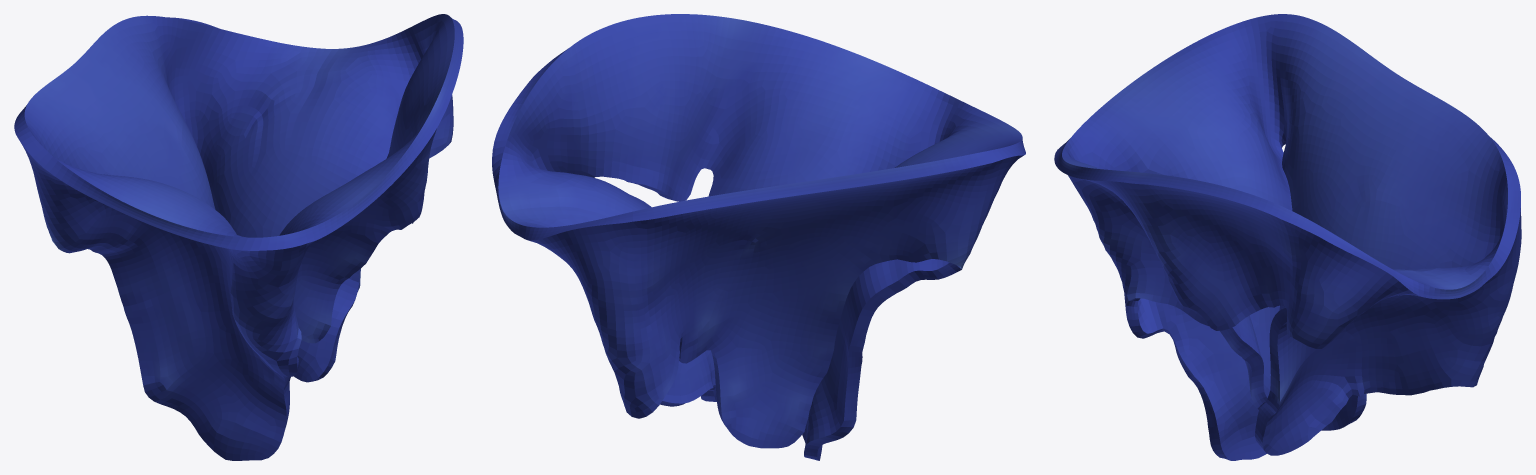
The picture shows the model from 3 angles, left to right: view 1: azimuth 30°, elevation 25°; view 2: azimuth 150°, elevation 25°; view 3: azimuth 270°, elevation 25°; orthographic projection. The views are drawn at different scales.
Parts seen in each view (by area): view 1: OCS14_maxS_5; view 2: OCS14_maxS_5; view 3: OCS14_maxS_5.
Boxes of the visible parts, x1,y1,x2,y2 form: OCS14_maxS_5: (14,14,463,460); OCS14_maxS_5: (492,14,1025,460); OCS14_maxS_5: (1054,14,1521,460).
Size of the model in its own units: 1.45 by 1.15 by 1.32.
